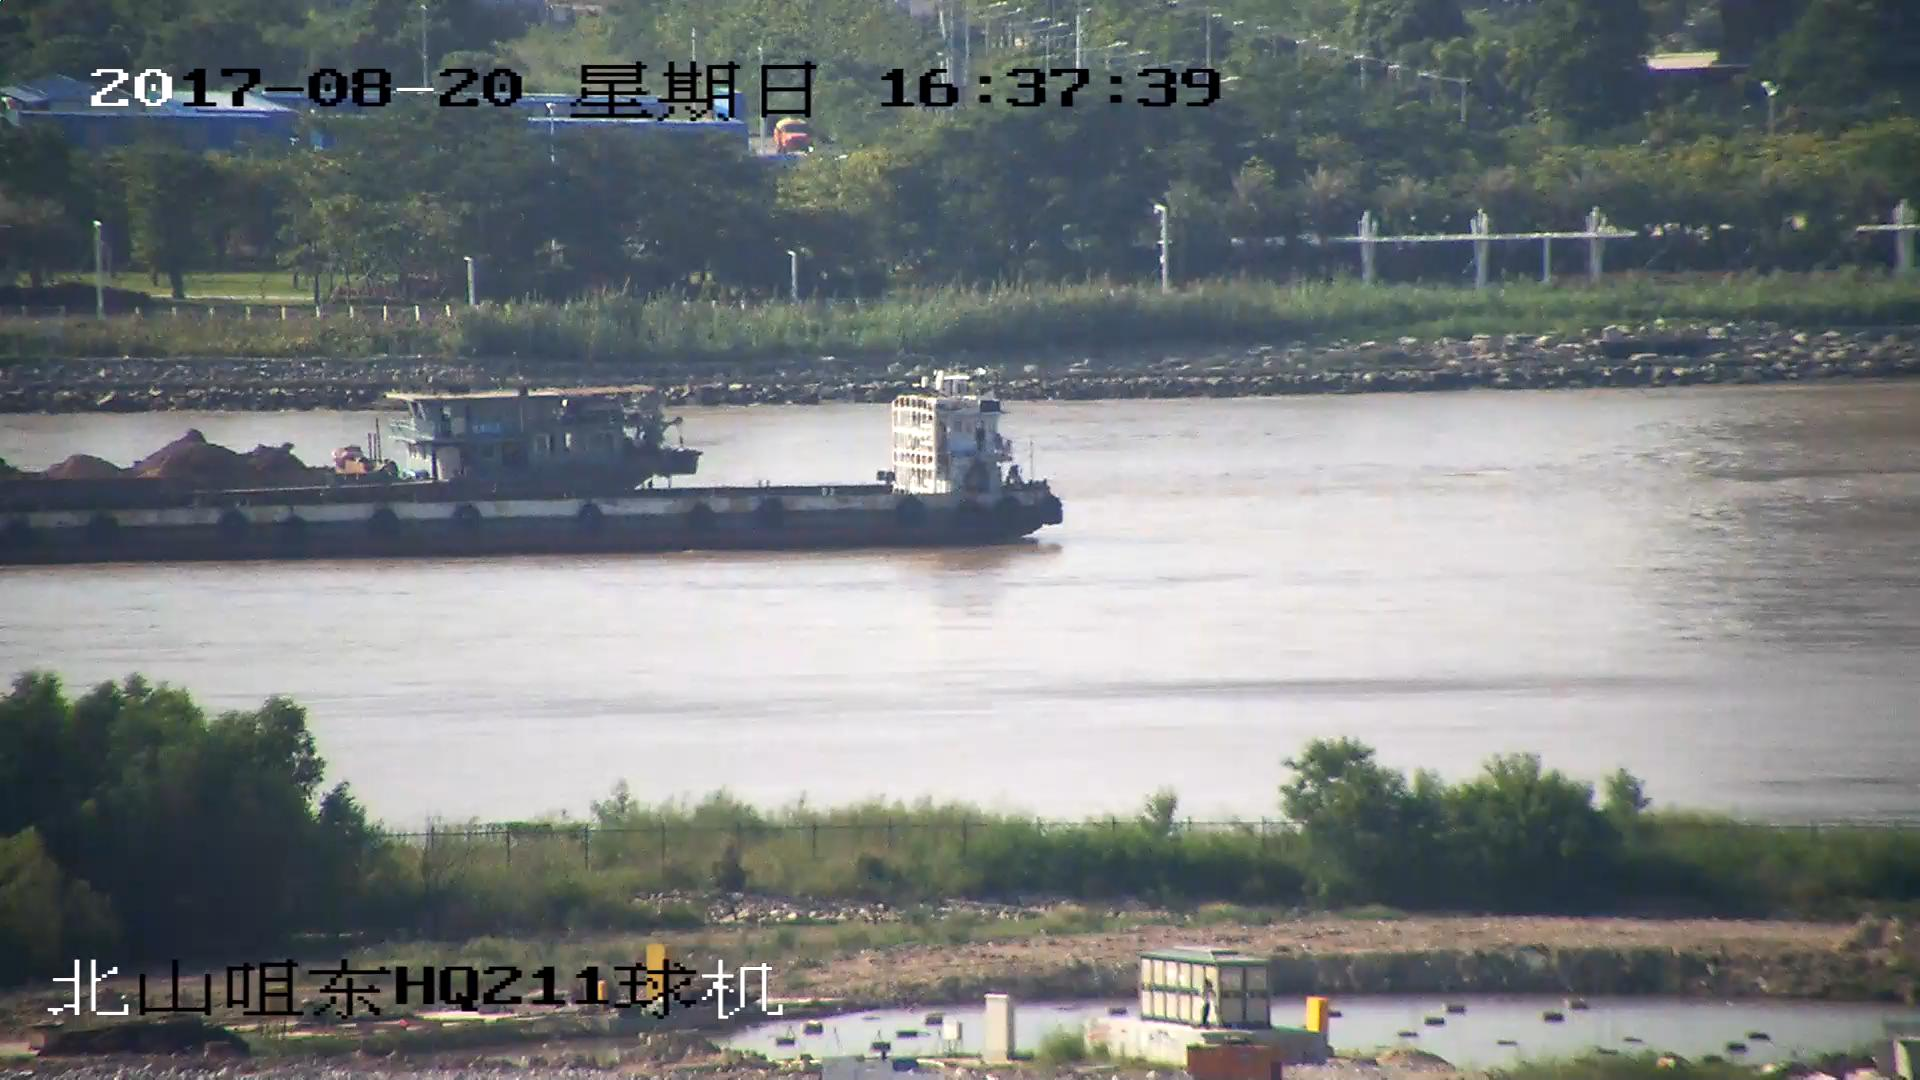general cargo ship: (1, 374, 1068, 560)
ore carrier: (1, 388, 691, 500)
